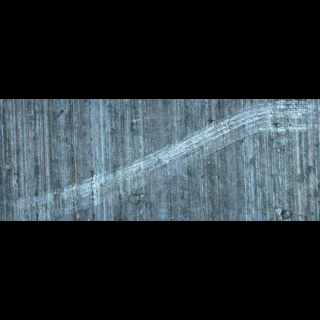d: (225, 99, 319, 134), (15, 179, 98, 214), (86, 158, 169, 191), (168, 127, 235, 160)
